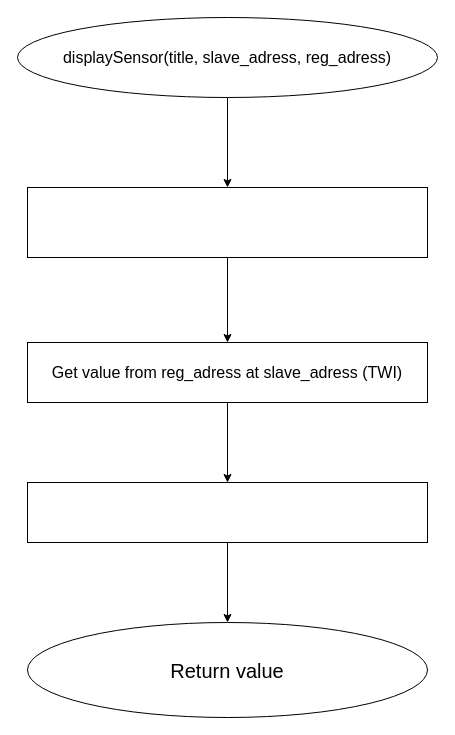
This 455x735 diagram has some shape labels left out. The shapes that lost their labels are listed below. From the top down, each one's centre as x and y in pixels, then its label:
[227,222]: Display title on the top line
[227,512]: Display value on the bottom line
